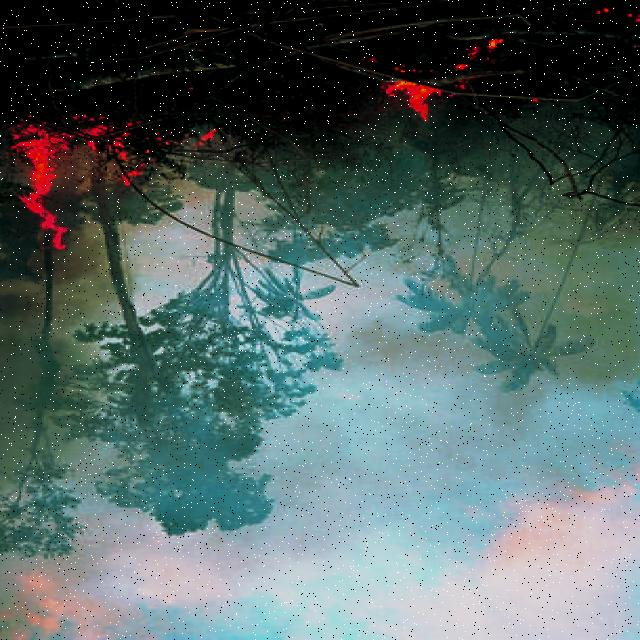api: (6, 127, 80, 251), (382, 74, 452, 122)
asap: (10, 528, 362, 639), (5, 267, 65, 462), (318, 292, 448, 362), (56, 243, 110, 303)
